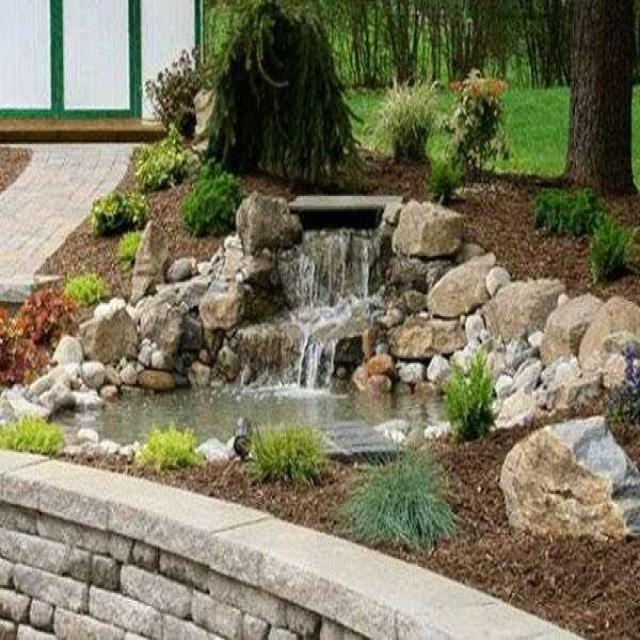Ponds: (1, 189, 640, 467)
